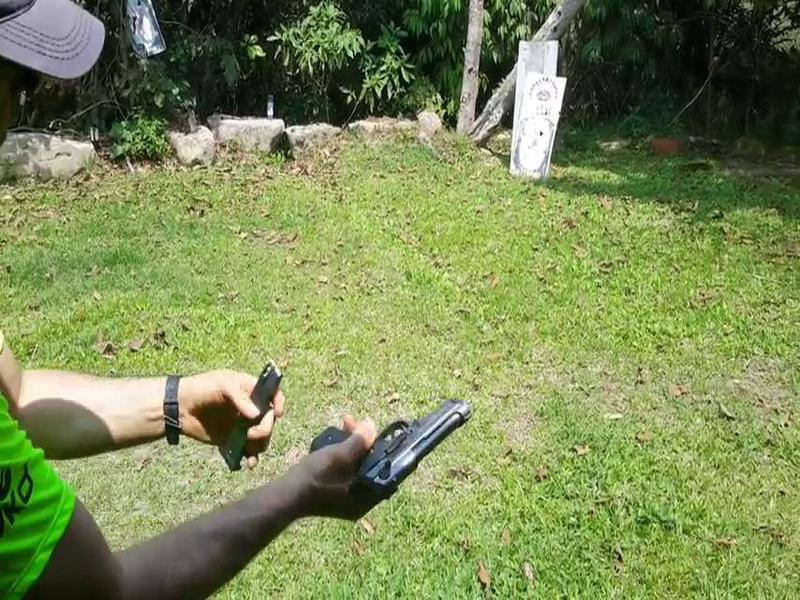Pistola: (318, 394, 475, 489)
